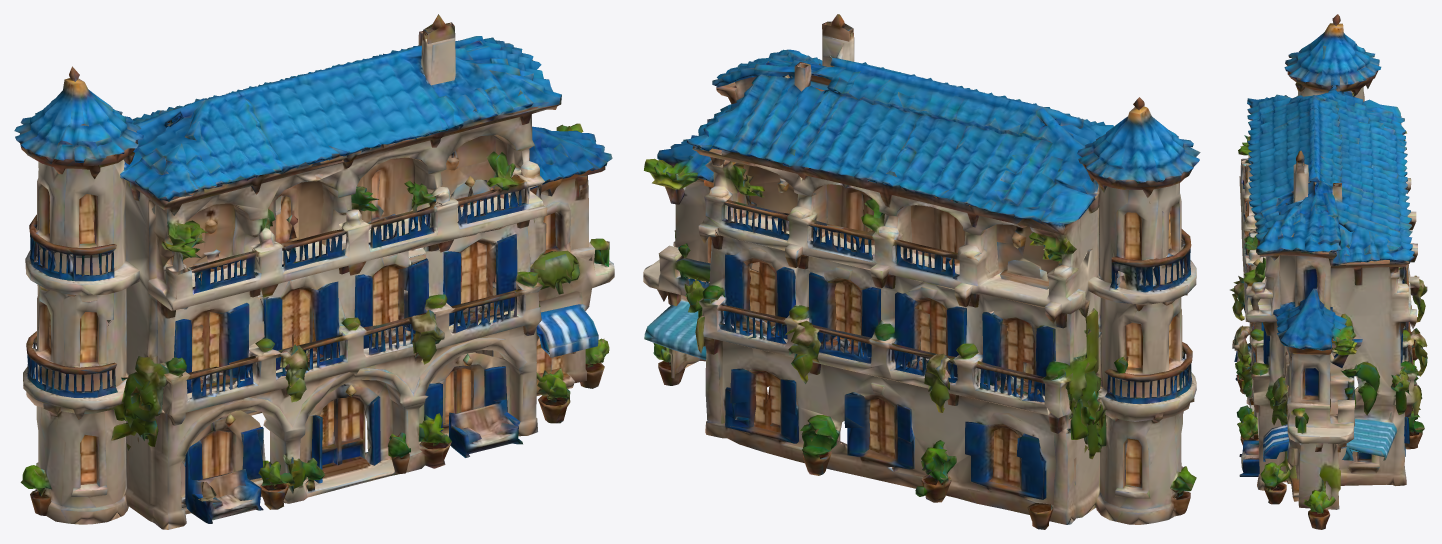
The picture shows the model from 3 angles, left to right: view 1: azimuth 30°, elevation 25°; view 2: azimuth 150°, elevation 25°; view 3: azimuth 270°, elevation 25°; orthographic projection. The views are drawn at different scales.
Parts seen in each view (by area): view 1: harbor__skyscraper_2__native_mobile; view 2: harbor__skyscraper_2__native_mobile; view 3: harbor__skyscraper_2__native_mobile.
Boxes of the visible parts, bbox=[...] form: harbor__skyscraper_2__native_mobile: bbox=[14, 14, 614, 529]; harbor__skyscraper_2__native_mobile: bbox=[643, 14, 1200, 529]; harbor__skyscraper_2__native_mobile: bbox=[1230, 14, 1427, 529].
Bounding box in the file's own units: 1 × 0.7233 × 0.3944.
Materials: 1 (1 with a texture image).
